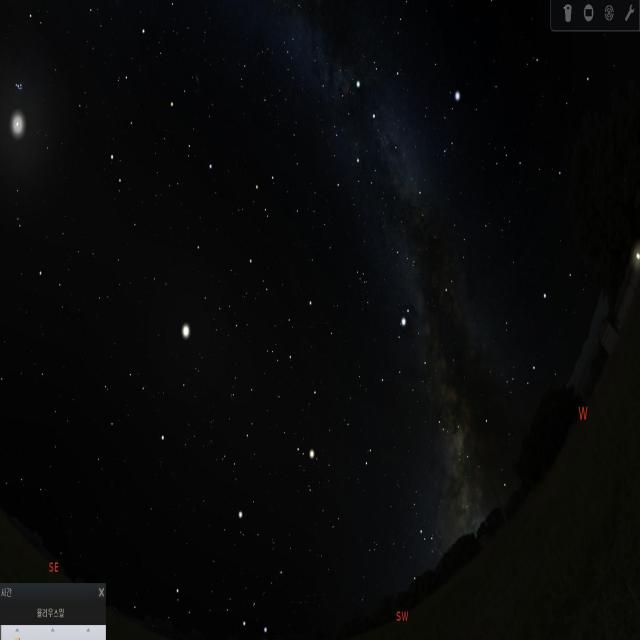aquila: (378, 302, 453, 437)
cygnus: (350, 63, 426, 207)
lyra: (434, 88, 462, 166)
moon: (6, 104, 31, 144)
pleiades: (8, 67, 26, 102)
